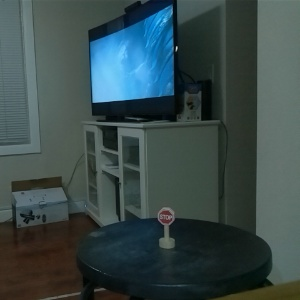stop sign: (155, 205, 176, 249)
